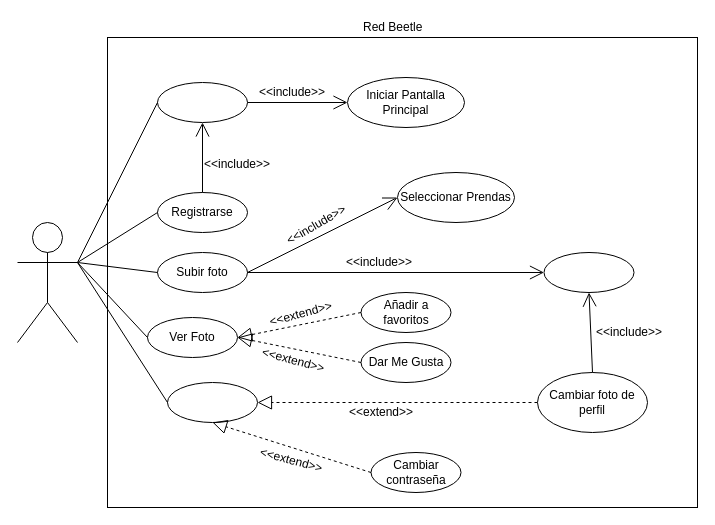
Image size: 715x525. Some labels were removed from this diagram. The centre of each missing label's shape, as x and y in pixels:
Configurar Perfil: the point at 212,402
Iniciar Sesión: the point at 202,102
Seleccionar Foto: the point at 588,272
Usuario: the point at 47,282
